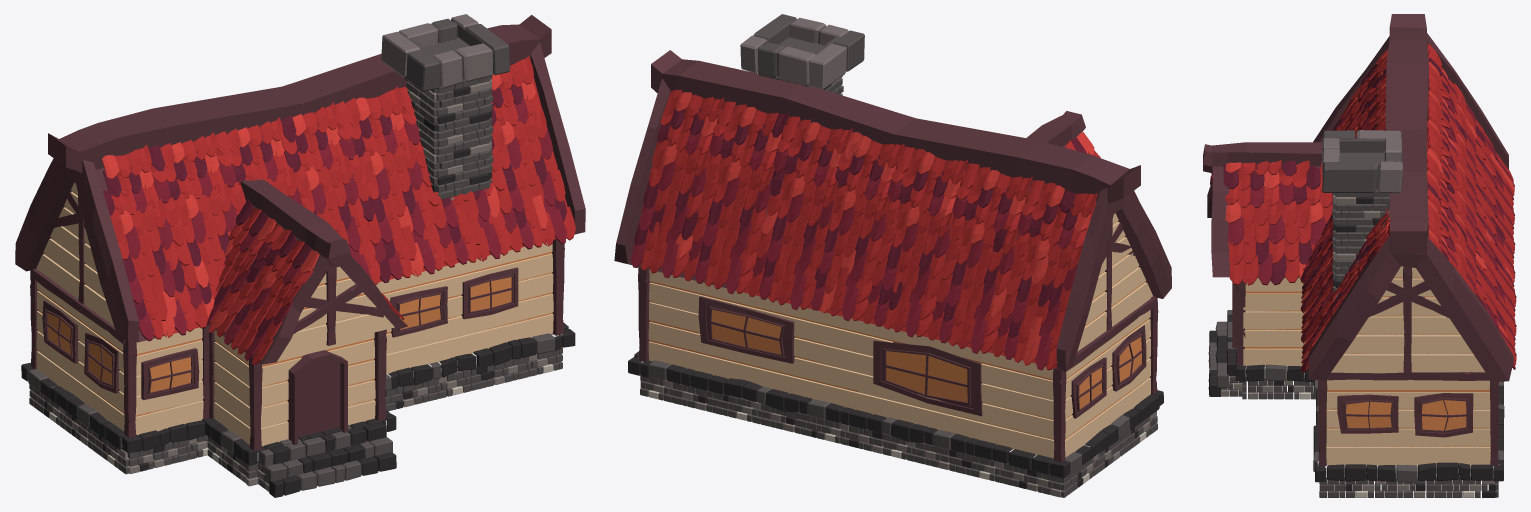
Rendered from casa-madeira13.fbx.
3 views of the same model, side by side, from view 1: azimuth 30°, elevation 25°; view 2: azimuth 150°, elevation 25°; view 3: azimuth 270°, elevation 25° (orthographic). The views are drawn at different scales.
Parts seen in each view (by area): view 1: Cube.227; view 2: Cube.227; view 3: Cube.227.
Part boxes in pixels (<box>): Cube.227: <box>15,14,585,497</box>; Cube.227: <box>614,14,1171,497</box>; Cube.227: <box>1203,14,1516,497</box>.
Bounding box in the file's own units: 1099 × 728 × 673.
